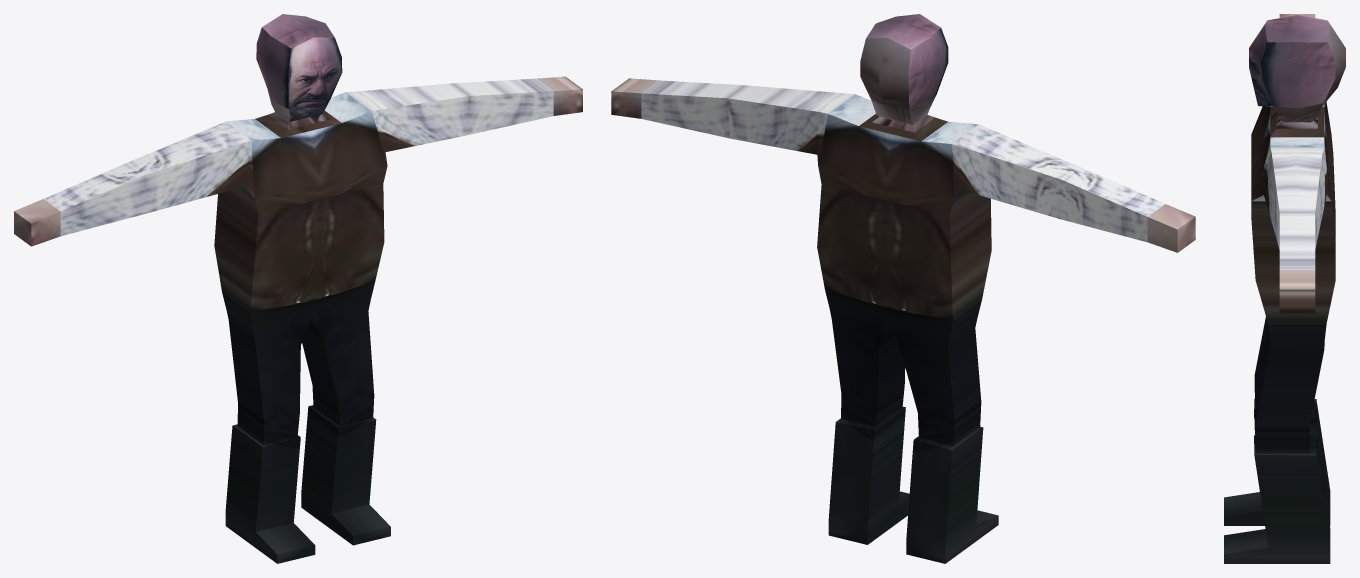
Rendered from Ruiz.fbx.
3 views of the same model, side by side, from view 1: azimuth 30°, elevation 25°; view 2: azimuth 150°, elevation 25°; view 3: azimuth 270°, elevation 25° (orthographic). The views are drawn at different scales.
Parts seen in each view (by area): view 1: Ruiz; view 2: Ruiz; view 3: Ruiz.
Part boxes in pixels (<box>): Ruiz: <box>14,14,582,563</box>; Ruiz: <box>611,14,1195,563</box>; Ruiz: <box>1224,14,1345,563</box>.
Bounding box in the file's own units: 1348 × 1164 × 251.
